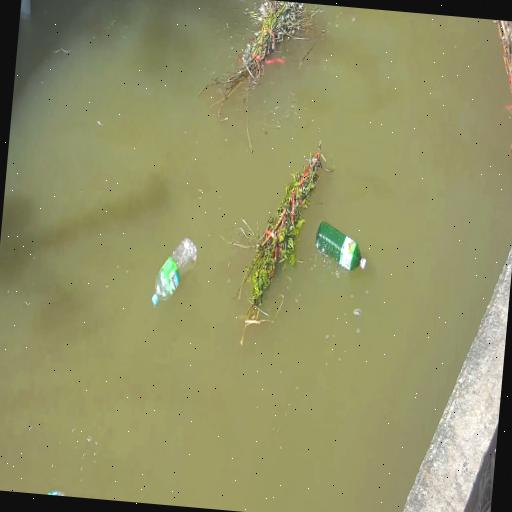plastic: (152, 228, 200, 316), (310, 222, 372, 278), (40, 481, 72, 497)
twig: (236, 127, 326, 331), (212, 0, 308, 114), (476, 19, 512, 149)
